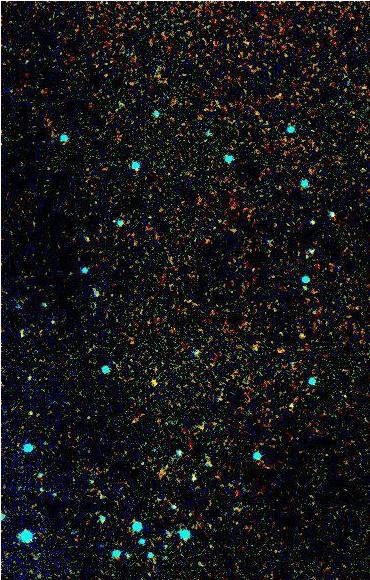star: (138, 368, 168, 398)
